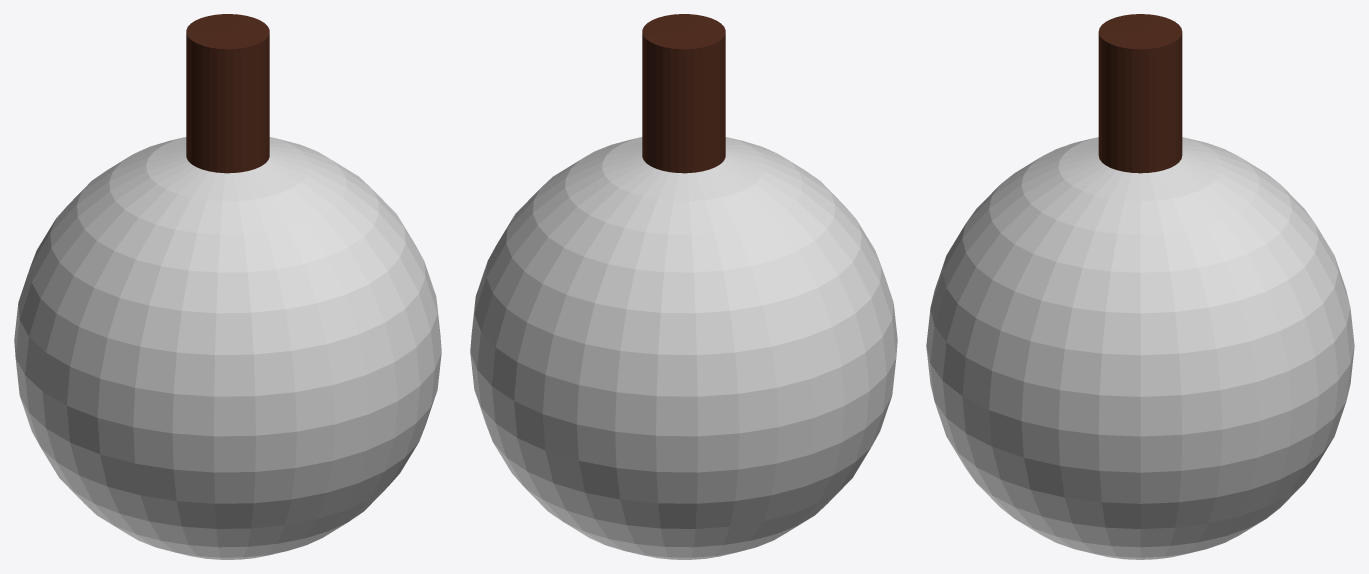
File: Bright Berry.fbx
3 views of the same model, side by side, from view 1: azimuth 30°, elevation 25°; view 2: azimuth 150°, elevation 25°; view 3: azimuth 270°, elevation 25° (orthographic).
Visible parts, largest first — view 1: Sphere; view 2: Sphere; view 3: Sphere.
Part boxes in pixels (x1,y1,x2,y2): Sphere: (14, 14, 441, 559); Sphere: (470, 14, 897, 559); Sphere: (926, 14, 1354, 559).
Bounding box in the file's own units: 200 × 262 × 200.
